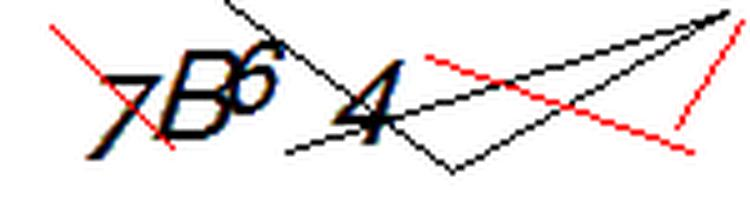4: (327, 54, 417, 158)
6: (218, 29, 291, 121)
7: (79, 64, 165, 167)
B: (151, 42, 240, 148)
